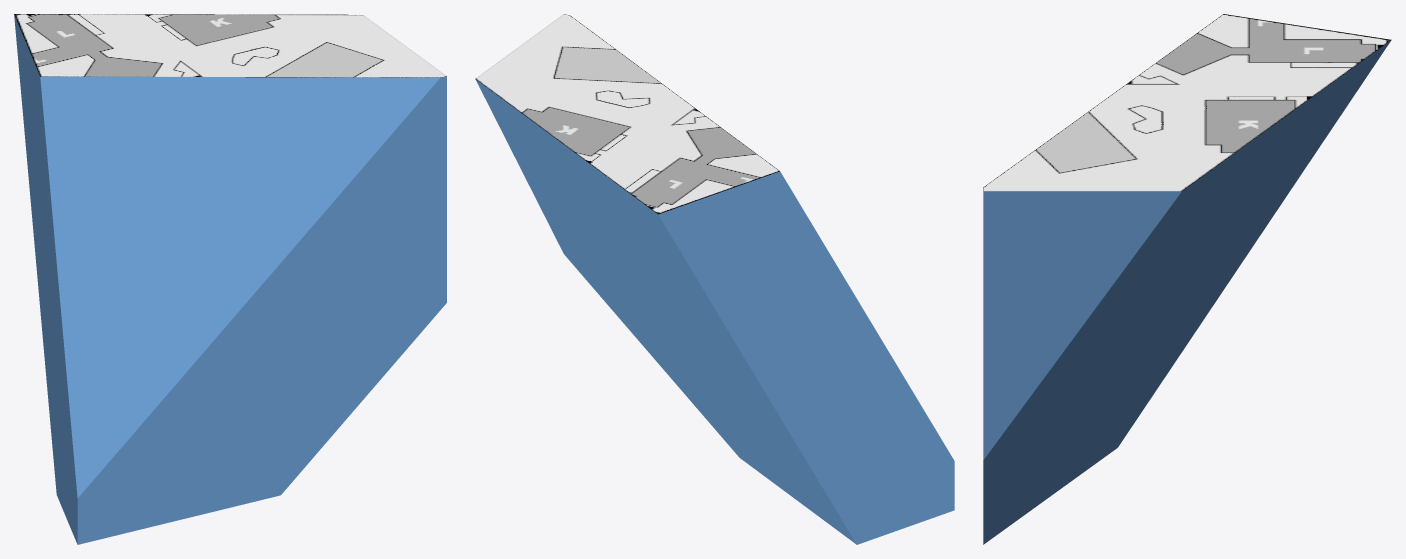
Rendered from Right_B1.glb.
The picture shows the model from 3 angles, left to right: view 1: azimuth 30°, elevation 25°; view 2: azimuth 150°, elevation 25°; view 3: azimuth 270°, elevation 25°; orthographic projection. The views are drawn at different scales.
Visible parts, largest first — view 1: Right_B1; view 2: Right_B1; view 3: Right_B1.
Part boxes in pixels (<box>): Right_B1: <box>14,14,446,544</box>; Right_B1: <box>475,14,954,544</box>; Right_B1: <box>983,14,1391,544</box>.
Size of the model in its own units: 3.58 by 3.51 by 2.89.
Materials: 2 (1 with a texture image).
